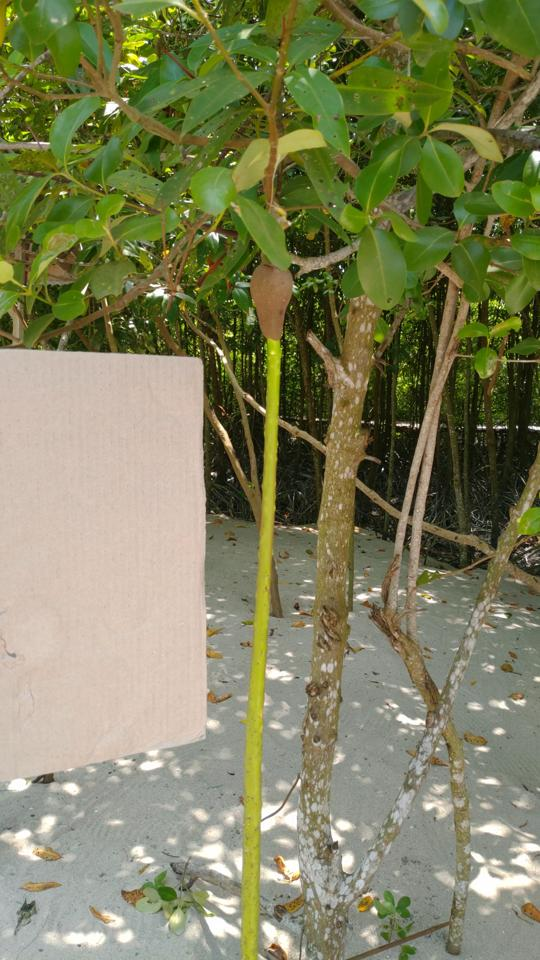mentah: (234, 251, 293, 958)
